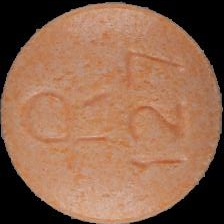63739-060: (0, 0, 224, 224)
